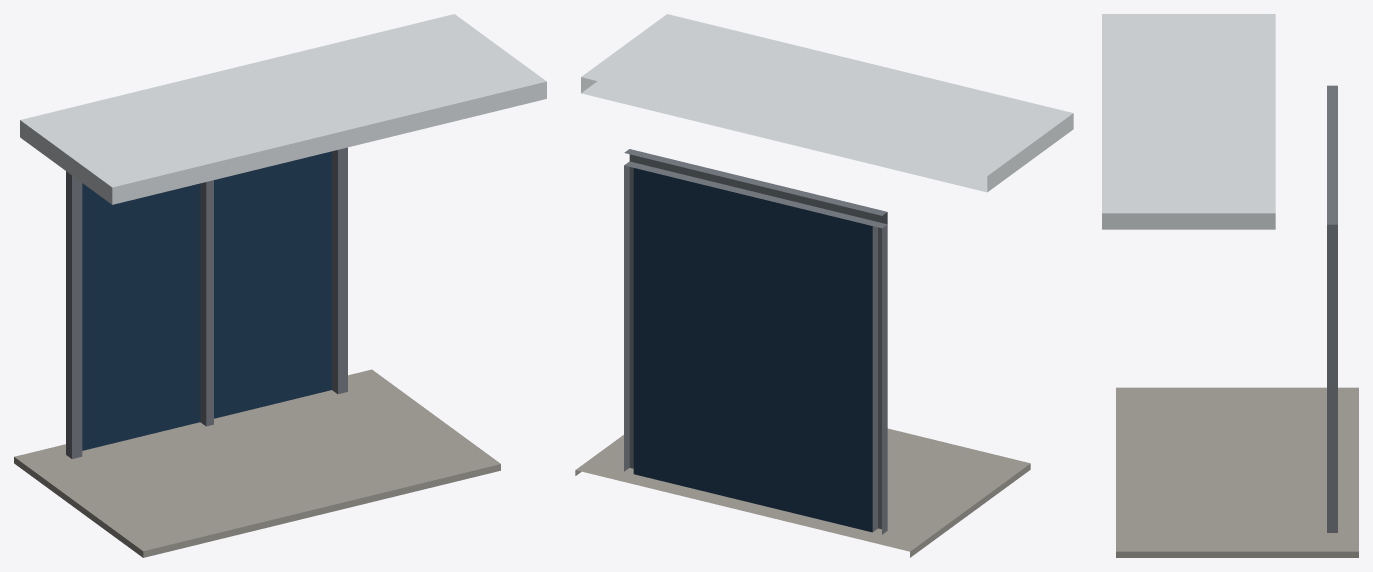
Rendered from entrance.fbx.
3 renders of one model, left to right at view 1: azimuth 30°, elevation 25°; view 2: azimuth 150°, elevation 25°; view 3: azimuth 270°, elevation 25°, orthographic. The views are drawn at different scales.
Visible parts, largest first — view 1: a2002/200/entrance; view 2: a2002/200/entrance; view 3: a2002/200/entrance.
Part boxes in pixels (box(x1,y1,x2,y2)): a2002/200/entrance: box(14, 14, 546, 557); a2002/200/entrance: box(575, 14, 1073, 557); a2002/200/entrance: box(1102, 14, 1358, 557).
Bounding box in the file's own units: 3.4 × 2.88 × 1.85.
